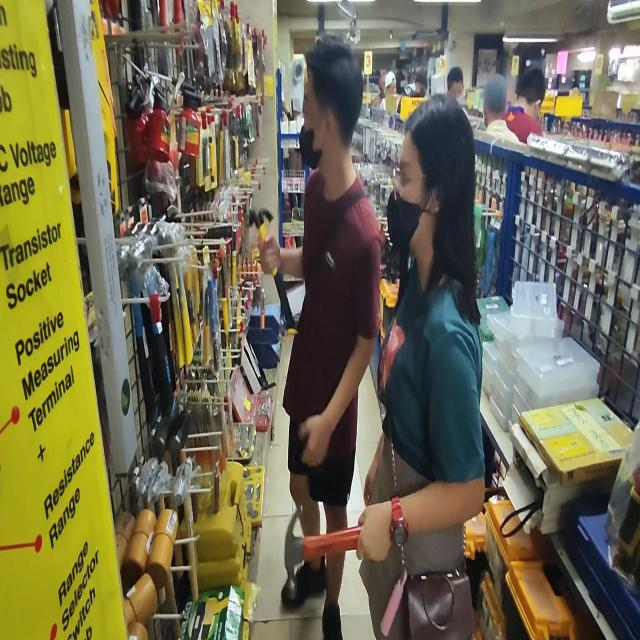hammer: (284, 503, 363, 600), (245, 207, 297, 336)
